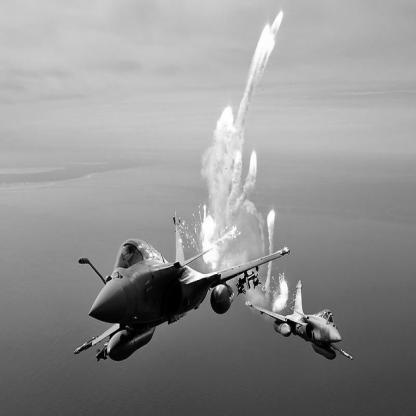Rafale: (74, 211, 291, 363), (245, 281, 354, 362)
